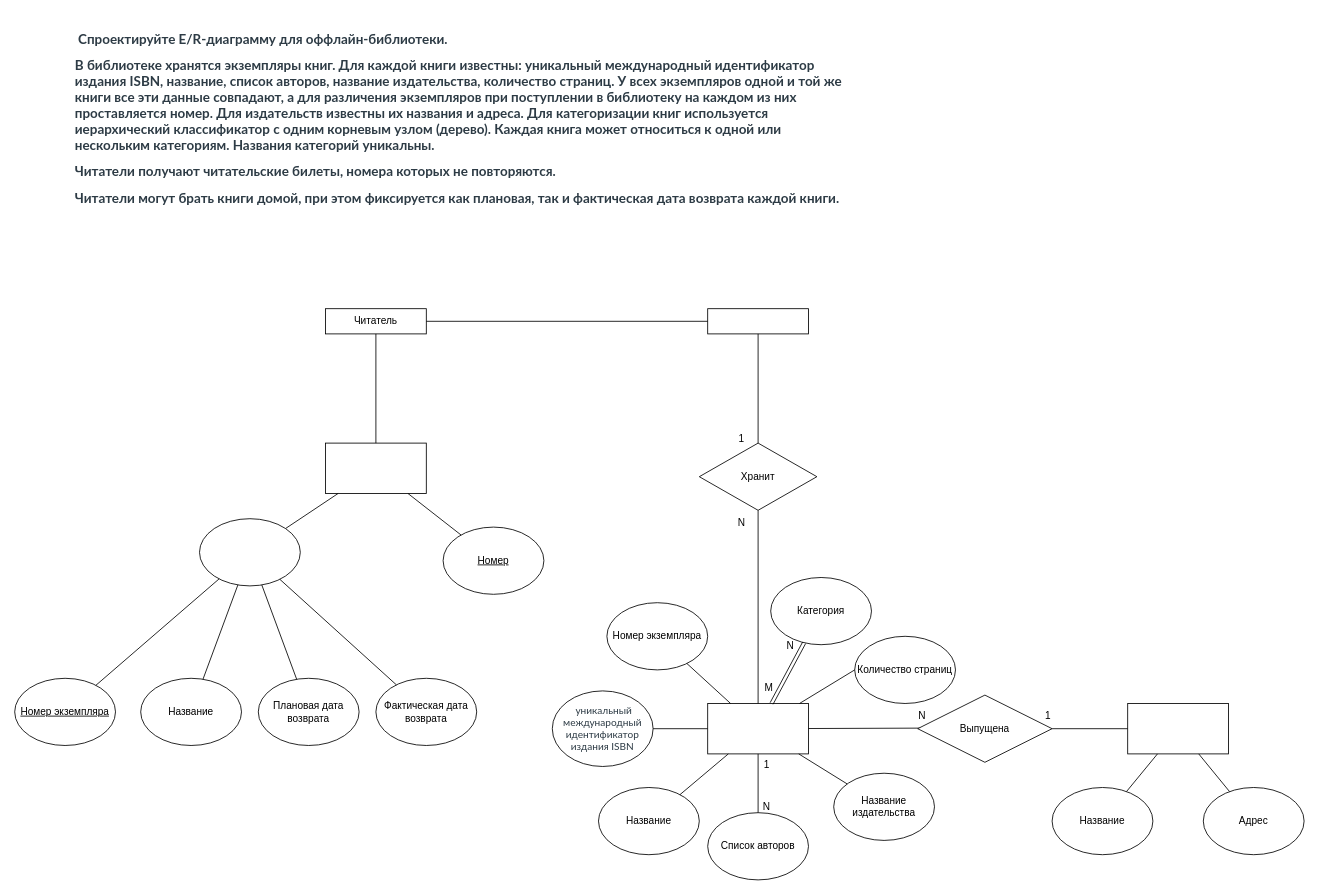
Image size: 1319x895. Some labels were removed from this diagram. The centre of each missing label's shape, as x and y in pixels:
Библиотека: (757,321)
Взятая книга: (249,552)
Издательство: (1177,728)
Книга: (757,728)
Читательский билет: (375,468)
